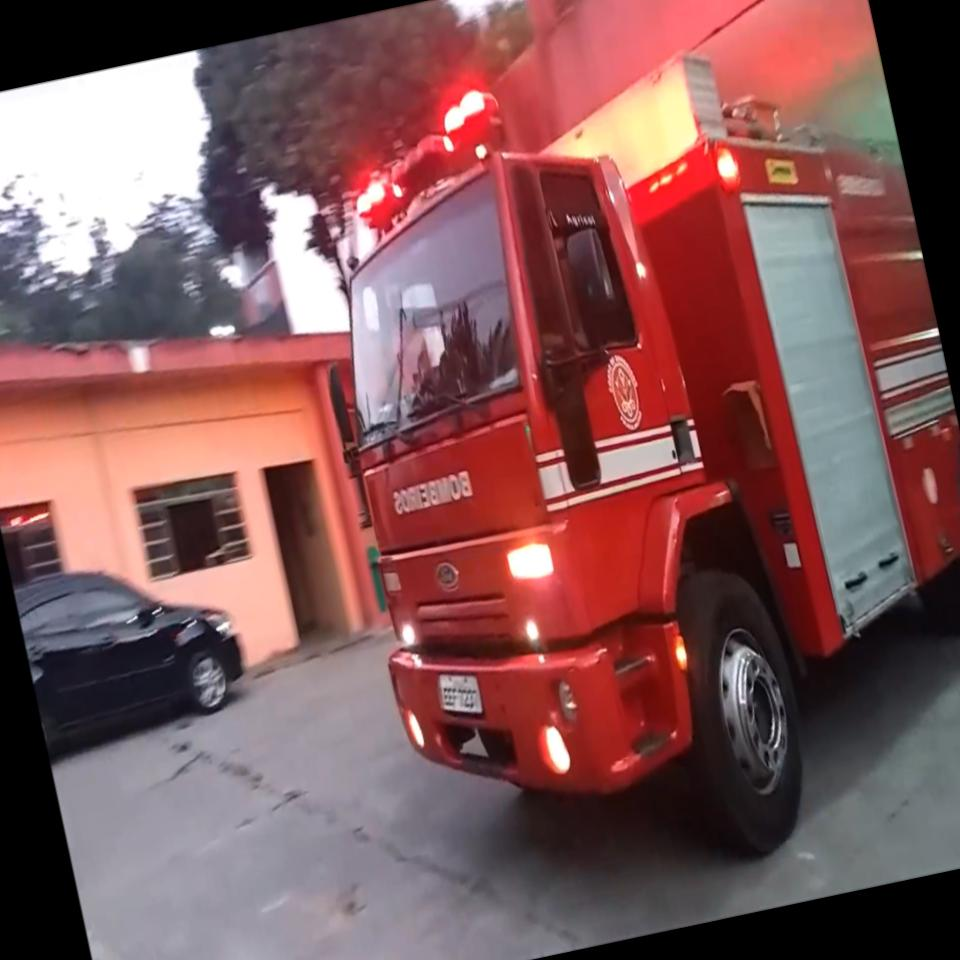viatura: (269, 0, 960, 924)
